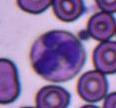N: (31, 30, 84, 81)
